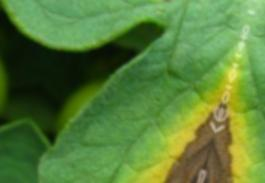Tomato Early blight leaf: (11, 0, 258, 183)
